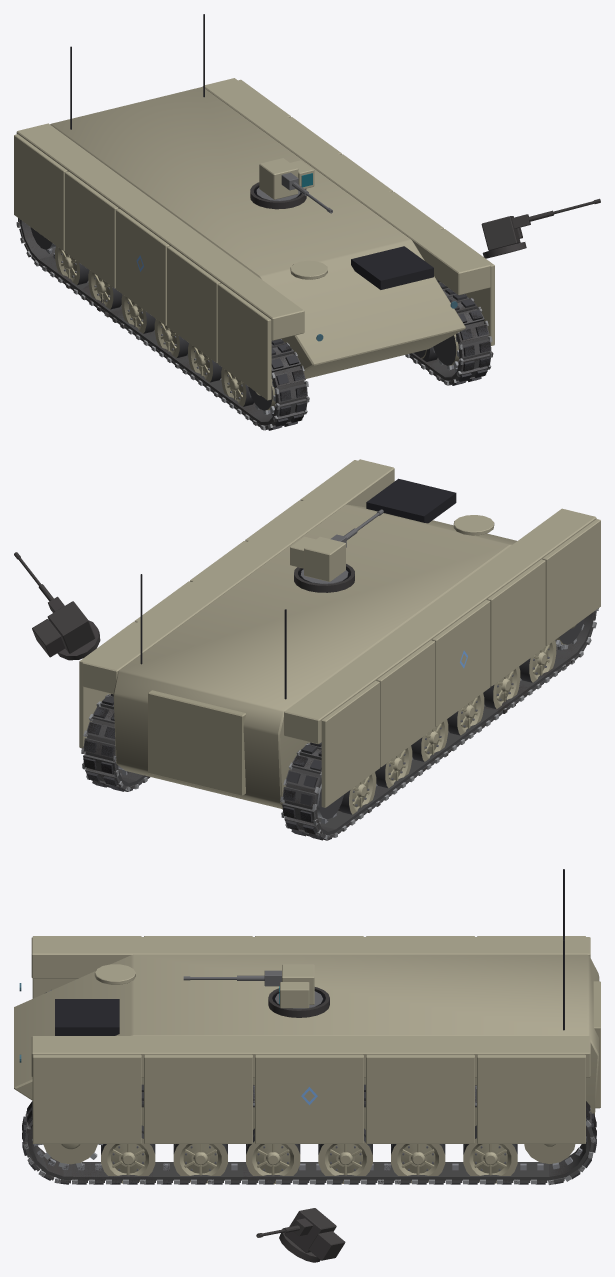
The model's file is apc__kaplan_harimau_apc.glb.
The picture shows the model from 3 angles, top to bottom: view 1: azimuth 30°, elevation 25°; view 2: azimuth 150°, elevation 25°; view 3: azimuth 270°, elevation 25°; orthographic projection. The views are drawn at different scales.
Parts seen in each view (by area): view 1: Hull_Mesh, Wreck, Track_L_Mesh, Track_R_Mesh, Turret_Mesh, Wheel_L4_Mesh, Wheel_L2_Mesh, Wheel_L0_Mesh, Wheel_L1_Mesh, Wheel_L3_Mesh, Wheel_L5_Mesh, Sprocket_R_Mesh; view 2: Hull_Mesh, Wreck, Track_L_Mesh, Track_R_Mesh, Turret_Mesh, Wheel_L1_Mesh, Wheel_L5_Mesh, Wheel_L4_Mesh, Wheel_L3_Mesh, Wheel_L2_Mesh, Wheel_L0_Mesh; view 3: Hull_Mesh, Track_R_Mesh, Wreck, Wheel_R5_Mesh, Wheel_R0_Mesh, Wheel_R2_Mesh, Wheel_R3_Mesh, Wheel_R1_Mesh, Wheel_R4_Mesh, Turret_Mesh, Sprocket_R_Mesh, Idler_R_Mesh (+1 smaller).
Part boxes in pixels (x1,y1,x2,y2): Hull_Mesh: (14, 14, 494, 400); Wreck: (17, 182, 600, 429); Track_L_Mesh: (16, 218, 309, 430); Track_R_Mesh: (405, 279, 492, 385); Turret_Mesh: (256, 158, 314, 201); Wheel_L4_Mesh: (188, 343, 222, 382); Wheel_L2_Mesh: (121, 295, 155, 333); Wheel_L0_Mesh: (55, 246, 89, 285); Wheel_L1_Mesh: (88, 270, 122, 309); Wheel_L3_Mesh: (154, 319, 188, 358); Wheel_L5_Mesh: (221, 367, 254, 406); Sprocket_R_Mesh: (432, 334, 459, 370); Hull_Mesh: (79, 459, 600, 808); Wreck: (14, 552, 598, 840); Track_L_Mesh: (280, 608, 598, 839); Track_R_Mesh: (81, 694, 150, 791); Turret_Mesh: (290, 536, 348, 584); Wheel_L1_Mesh: (375, 746, 412, 788); Wheel_L5_Mesh: (519, 640, 556, 682); Wheel_L4_Mesh: (483, 666, 520, 709); Wheel_L3_Mesh: (447, 693, 484, 735); Wheel_L2_Mesh: (411, 719, 448, 761); Wheel_L0_Mesh: (339, 772, 376, 814); Hull_Mesh: (14, 869, 600, 1143); Track_R_Mesh: (22, 1084, 596, 1184); Wreck: (22, 987, 596, 1262); Wheel_R5_Mesh: (101, 1125, 155, 1183); Wheel_R0_Mesh: (463, 1125, 517, 1183); Wheel_R2_Mesh: (318, 1128, 372, 1183); Wheel_R3_Mesh: (246, 1128, 300, 1184); Wheel_R1_Mesh: (391, 1144, 445, 1183); Wheel_R4_Mesh: (173, 1144, 227, 1183); Turret_Mesh: (275, 964, 323, 1009); Sprocket_R_Mesh: (38, 1144, 103, 1167); Idler_R_Mesh: (524, 1144, 575, 1163).
Size of what is drawn, in the model's own units: 6.39 by 2.87 by 6.81.
